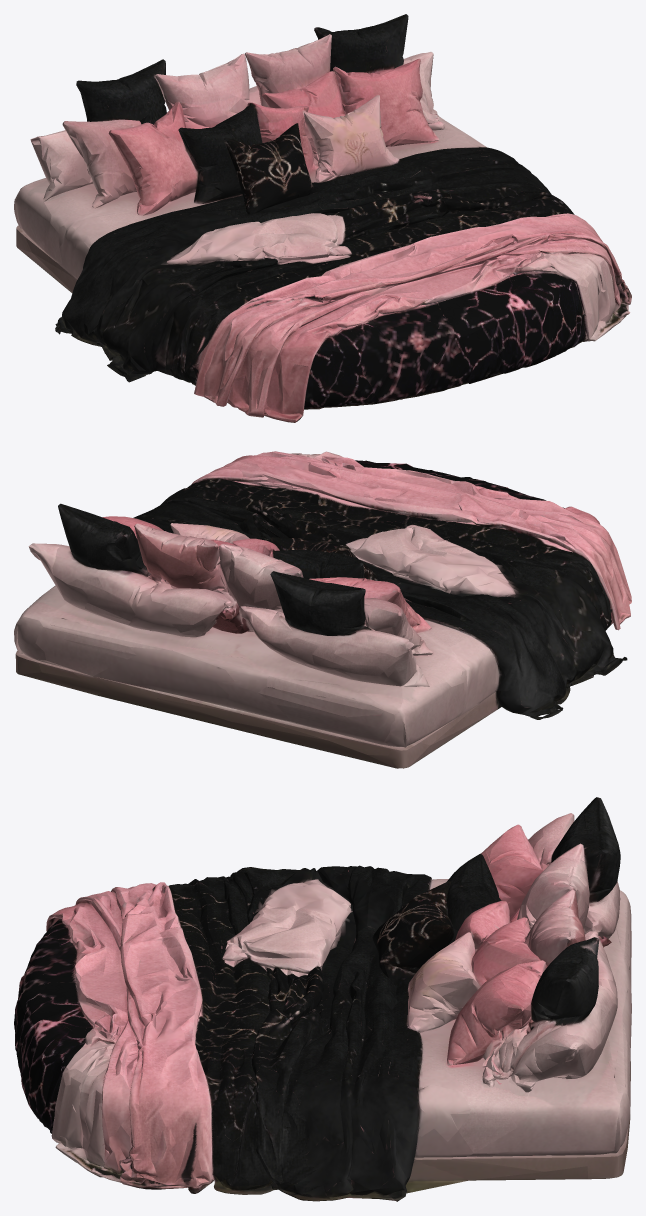
3 views of the same model, one above another, from view 1: azimuth 30°, elevation 25°; view 2: azimuth 150°, elevation 25°; view 3: azimuth 270°, elevation 25° (orthographic). The views are drawn at different scales.
Parts seen in each view (by area): view 1: Mesh_0; view 2: Mesh_0; view 3: Mesh_0.
Boxes of the visible parts, left/top/right/bottom form: Mesh_0: left=14, top=14, right=631, bottom=422; Mesh_0: left=14, top=451, right=631, bottom=768; Mesh_0: left=14, top=797, right=631, bottom=1201.
Size of the model in its own units: 1.89 by 0.607 by 1.77.
1 material, 1 textured.
